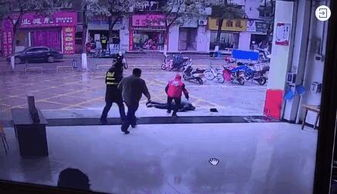fall: (144, 90, 200, 116)
